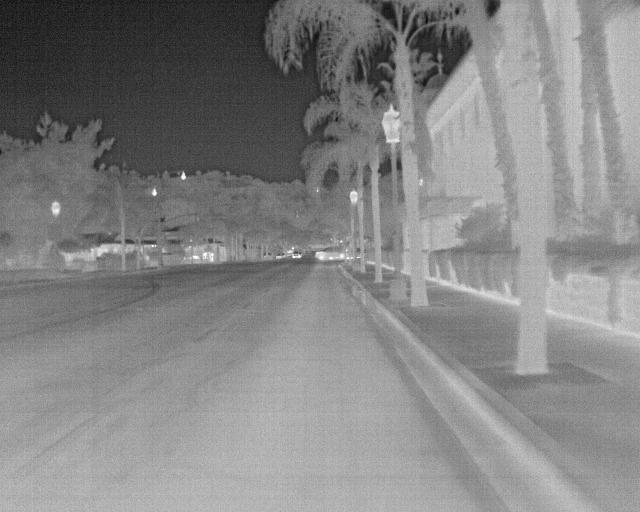car: (314, 243, 346, 261), (291, 245, 305, 258)
